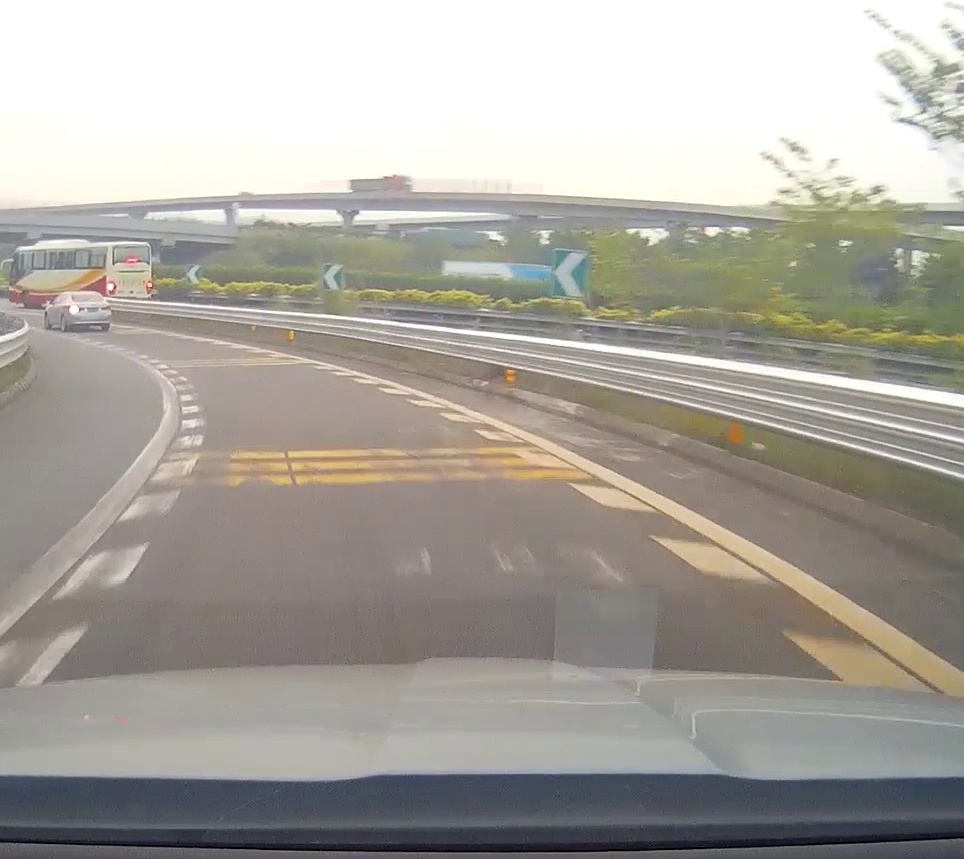L_light: (68, 305, 82, 312)
R_light: (100, 305, 111, 311)
T_light: (83, 293, 90, 296)
day-left: (66, 291, 112, 332)
